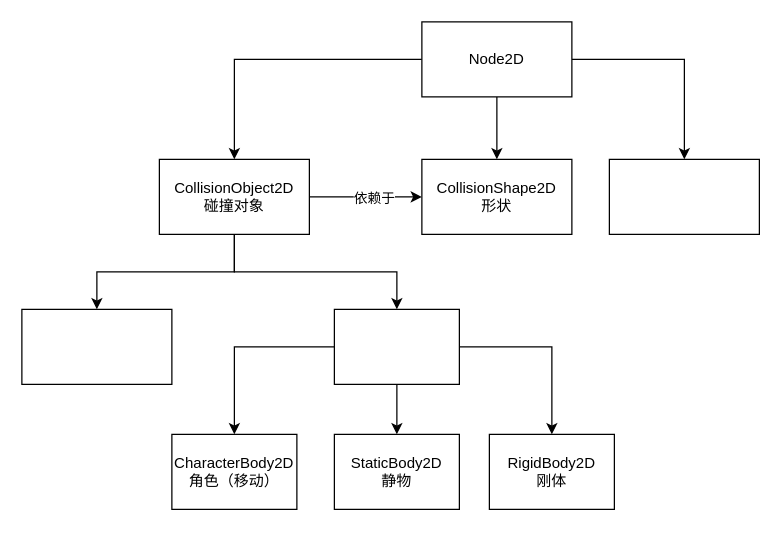
This 781x541 diagram has some shape labels left out. The shapes that lost their labels are listed below. From the top down, each one's centre as x and y in pixels, then its label:
At [683,196]: "CollisionPolygon2D 多边形".
At [96,346]: "Area2D区域".
At [396,346]: "PhysicsBody2D 物理体".
